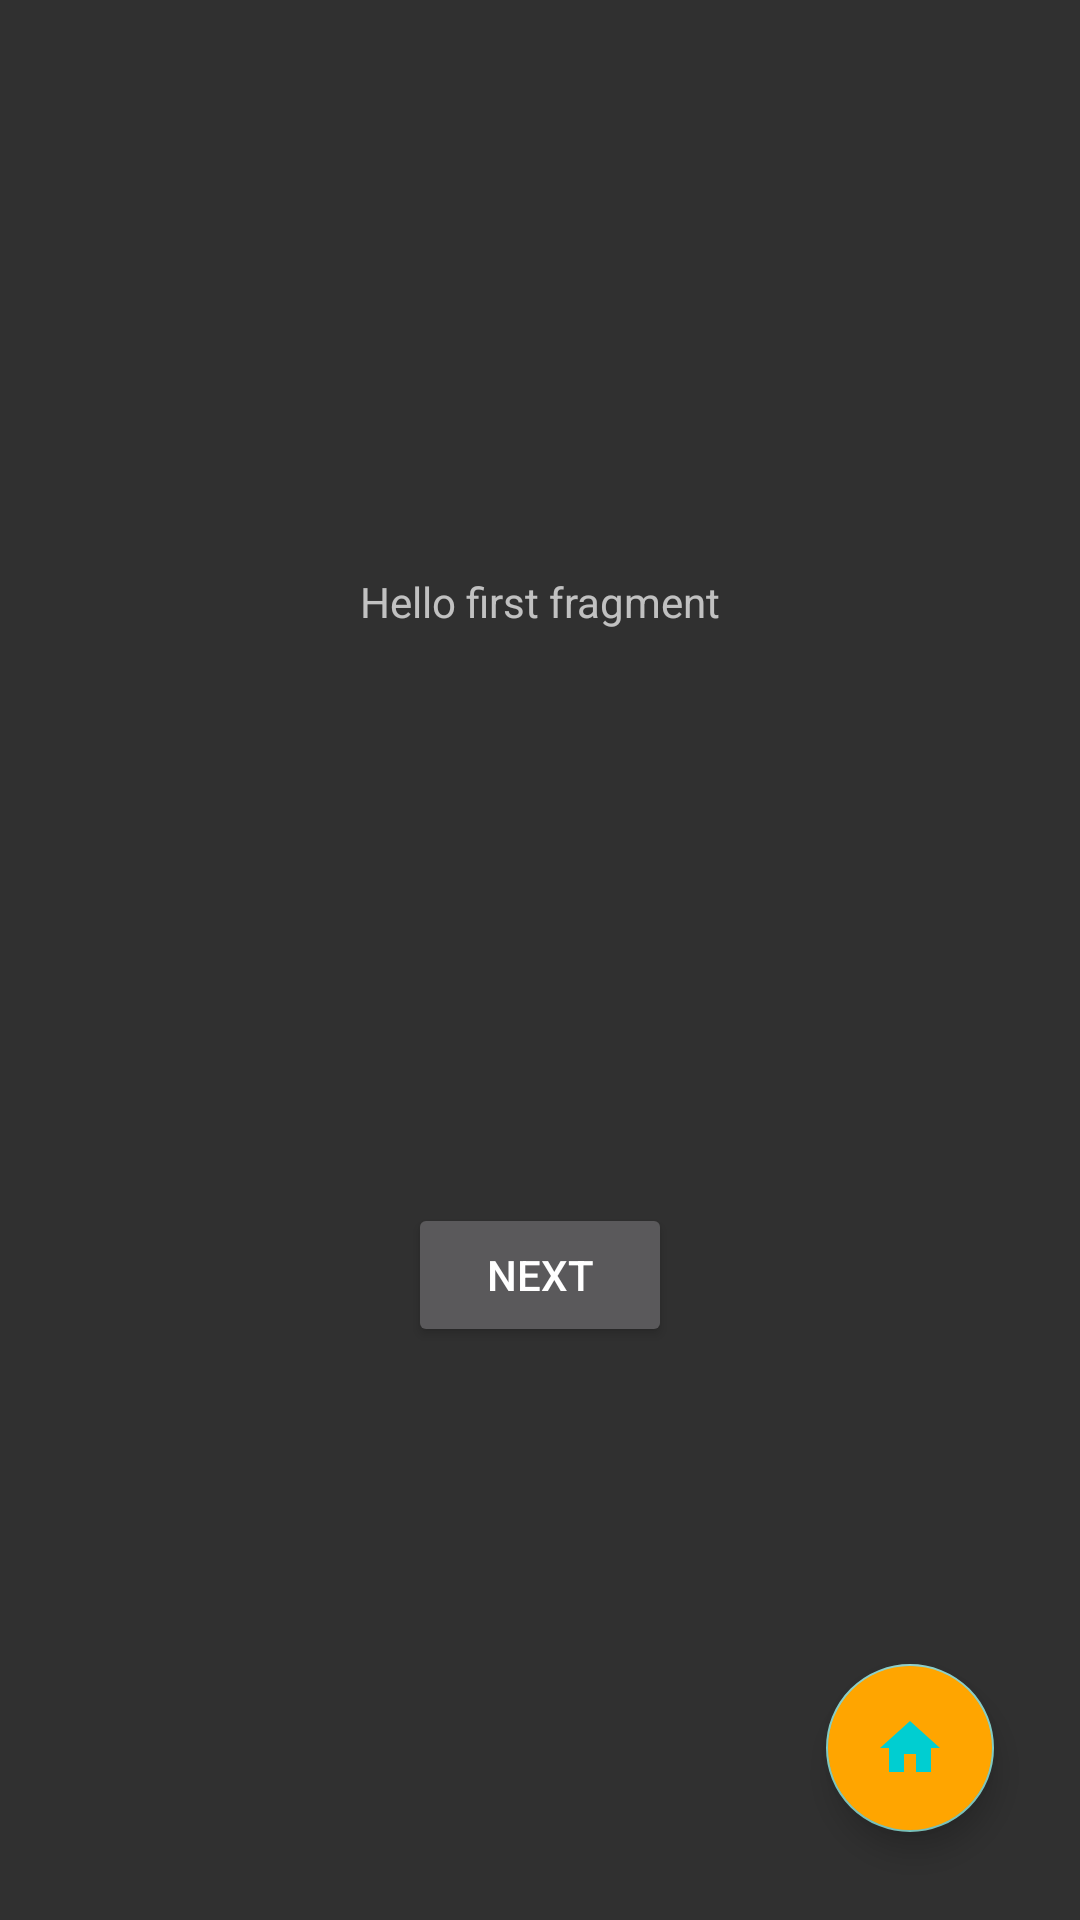

Icon click points for this 1080x1920 phone screenshot, format (x,y):
Home Button: (910,1748)
